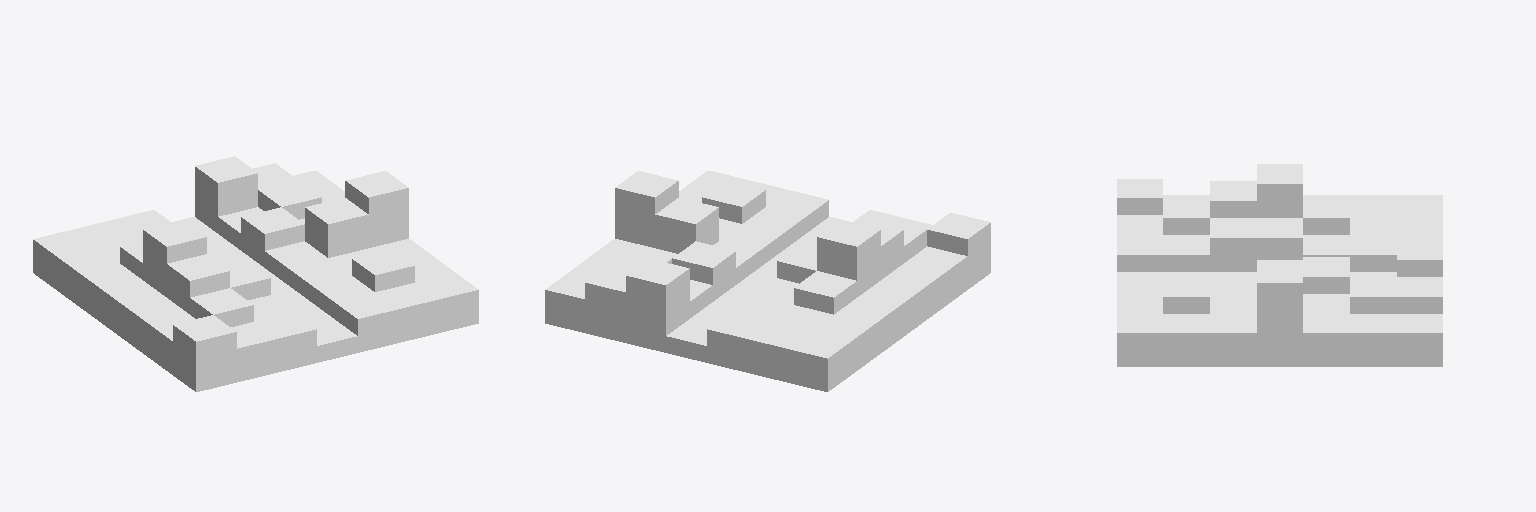
File: StraightOne.obj
3 views of the same model, side by side, from view 1: azimuth 30°, elevation 25°; view 2: azimuth 150°, elevation 25°; view 3: azimuth 270°, elevation 25° (orthographic).
Visible parts, largest first — view 1: object 1; view 2: object 1; view 3: object 1.
Part boxes in pixels (left/top/right/bottom): object 1: left=33, top=156, right=478, bottom=391; object 1: left=545, top=170, right=990, bottom=391; object 1: left=1117, top=164, right=1442, bottom=366.
Bounding box in the file's own units: 7 × 2 × 7.